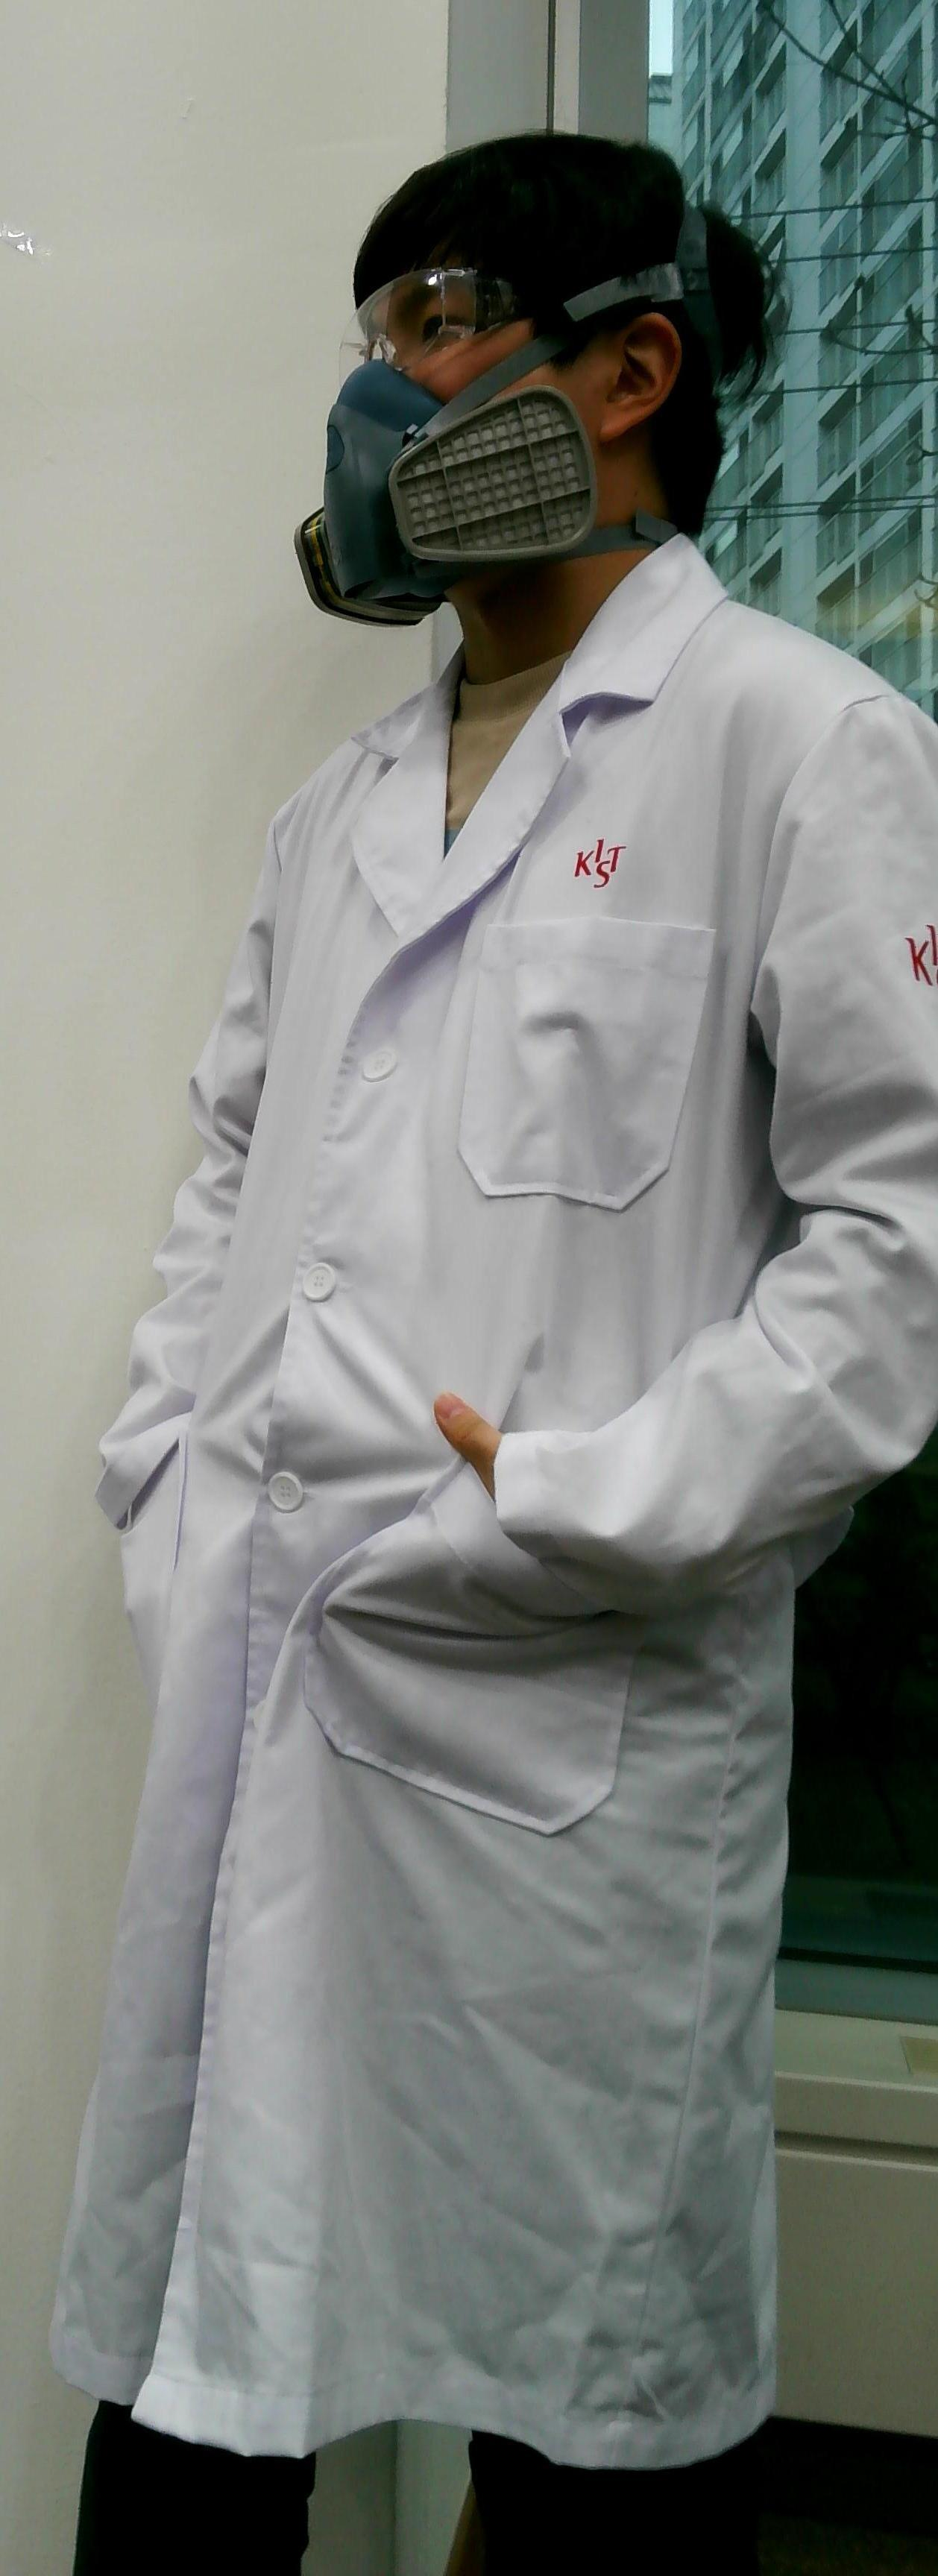lab_coat: (54, 739, 938, 2387)
